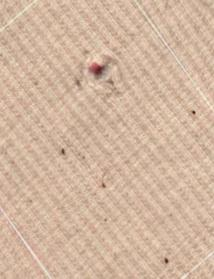hole: (76, 52, 121, 89)
stain: (95, 175, 118, 199), (52, 142, 76, 163), (183, 105, 206, 126), (157, 249, 181, 268)
